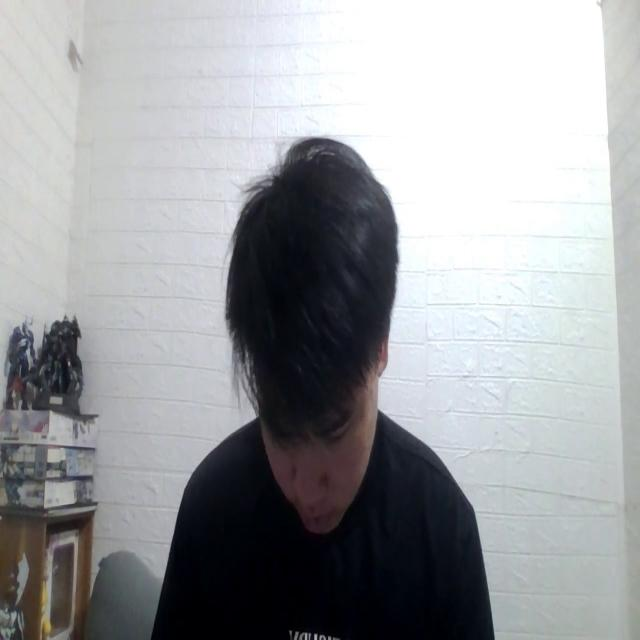student: (147, 122, 496, 640)
